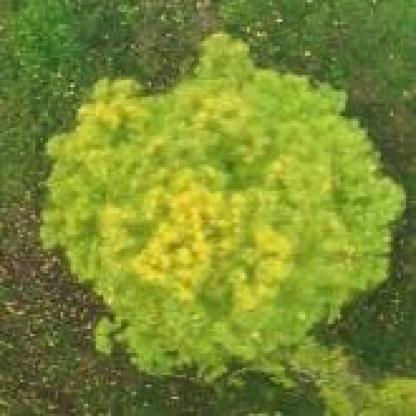Deciduous Tree: (38, 26, 416, 366)
